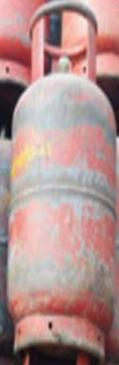cylinder: (1, 1, 119, 365)
